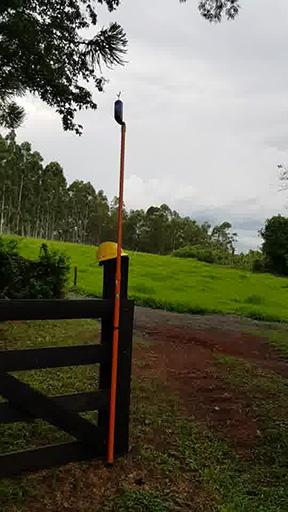Detector_Tensao_Contato: (113, 90, 125, 125)
Vara_Manobra: (105, 124, 127, 464)
